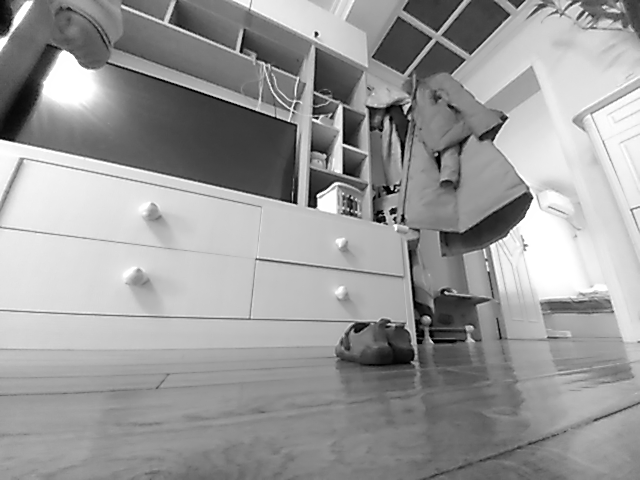shoe: (335, 317, 396, 365)
